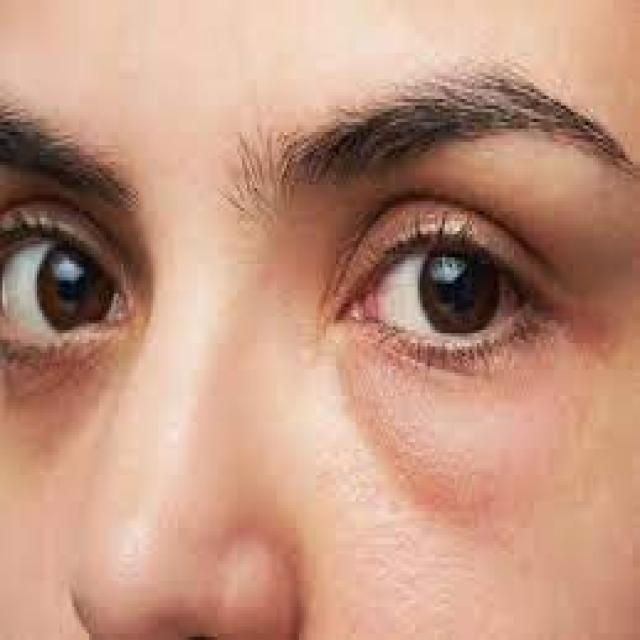Puffy Eyes - v3 Dark Circle: (348, 338, 574, 540), (0, 323, 119, 462)
